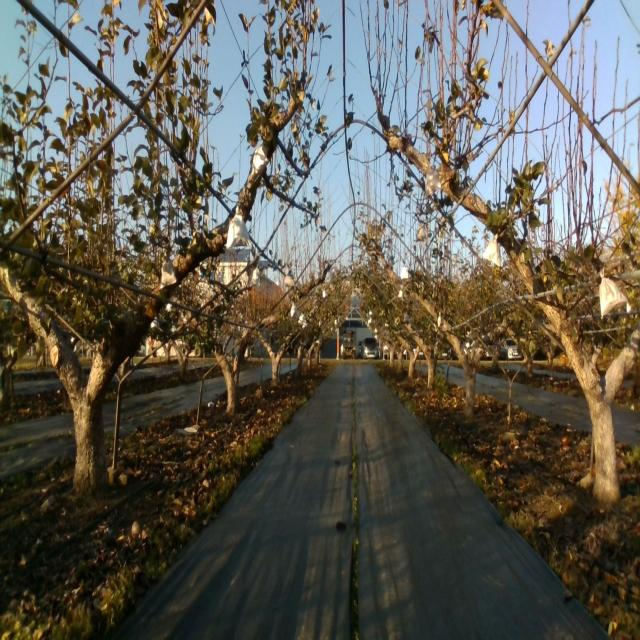pearbags: (599, 269, 628, 322), (226, 206, 251, 248), (159, 253, 179, 290), (482, 231, 502, 265), (424, 165, 442, 197), (252, 145, 269, 175)
